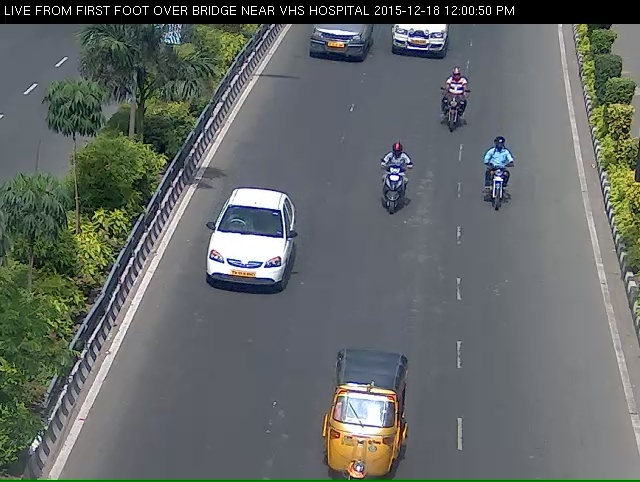Auto: (315, 362, 408, 479)
Car: (197, 202, 287, 308), (295, 24, 369, 70), (379, 24, 458, 67)
Person: (370, 160, 416, 227), (478, 144, 512, 218), (434, 76, 466, 133)
